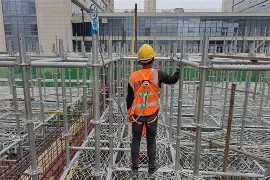safety belt: (126, 70, 162, 126)
